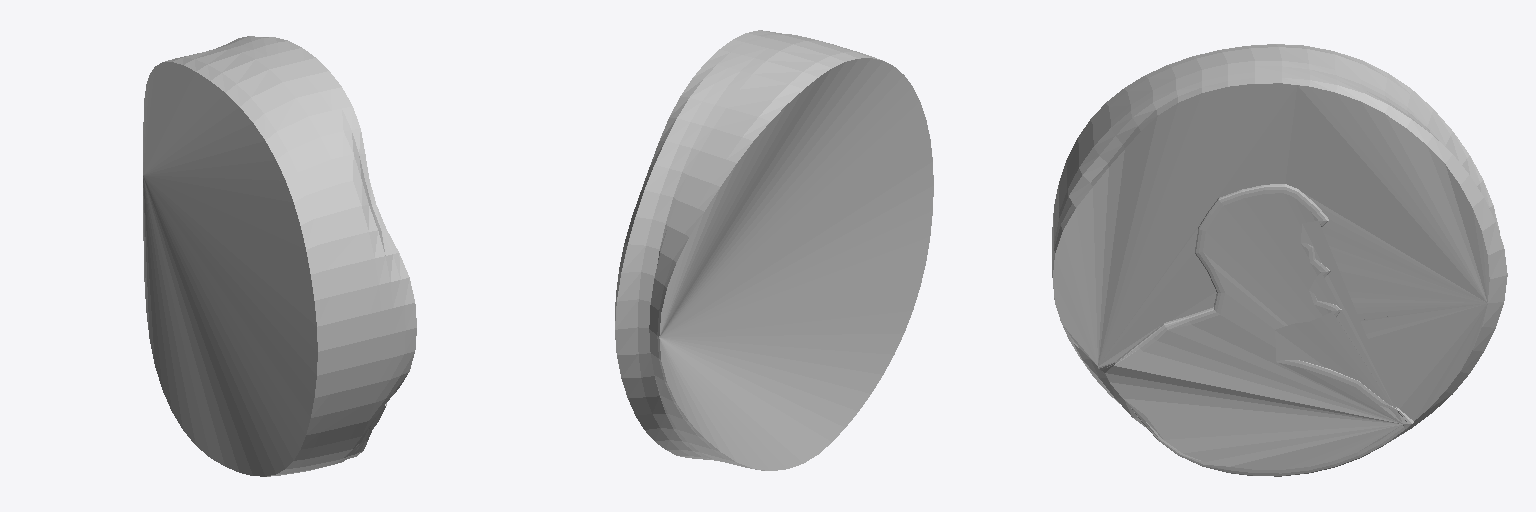
The model's file is nahodkapechat.obj.
The picture shows the model from 3 angles: view 1: azimuth 30°, elevation 25°; view 2: azimuth 150°, elevation 25°; view 3: azimuth 270°, elevation 25°; orthographic projection.
Parts seen in each view (by area): view 1: Cylinder; view 2: Cylinder; view 3: Cylinder.
Part boxes in pixels (x1,y1,x2,y2): Cylinder: (143, 36, 416, 476); Cylinder: (615, 30, 933, 470); Cylinder: (1052, 44, 1507, 476).
Size of the model in its own units: 0.5553 by 2 by 2.11.